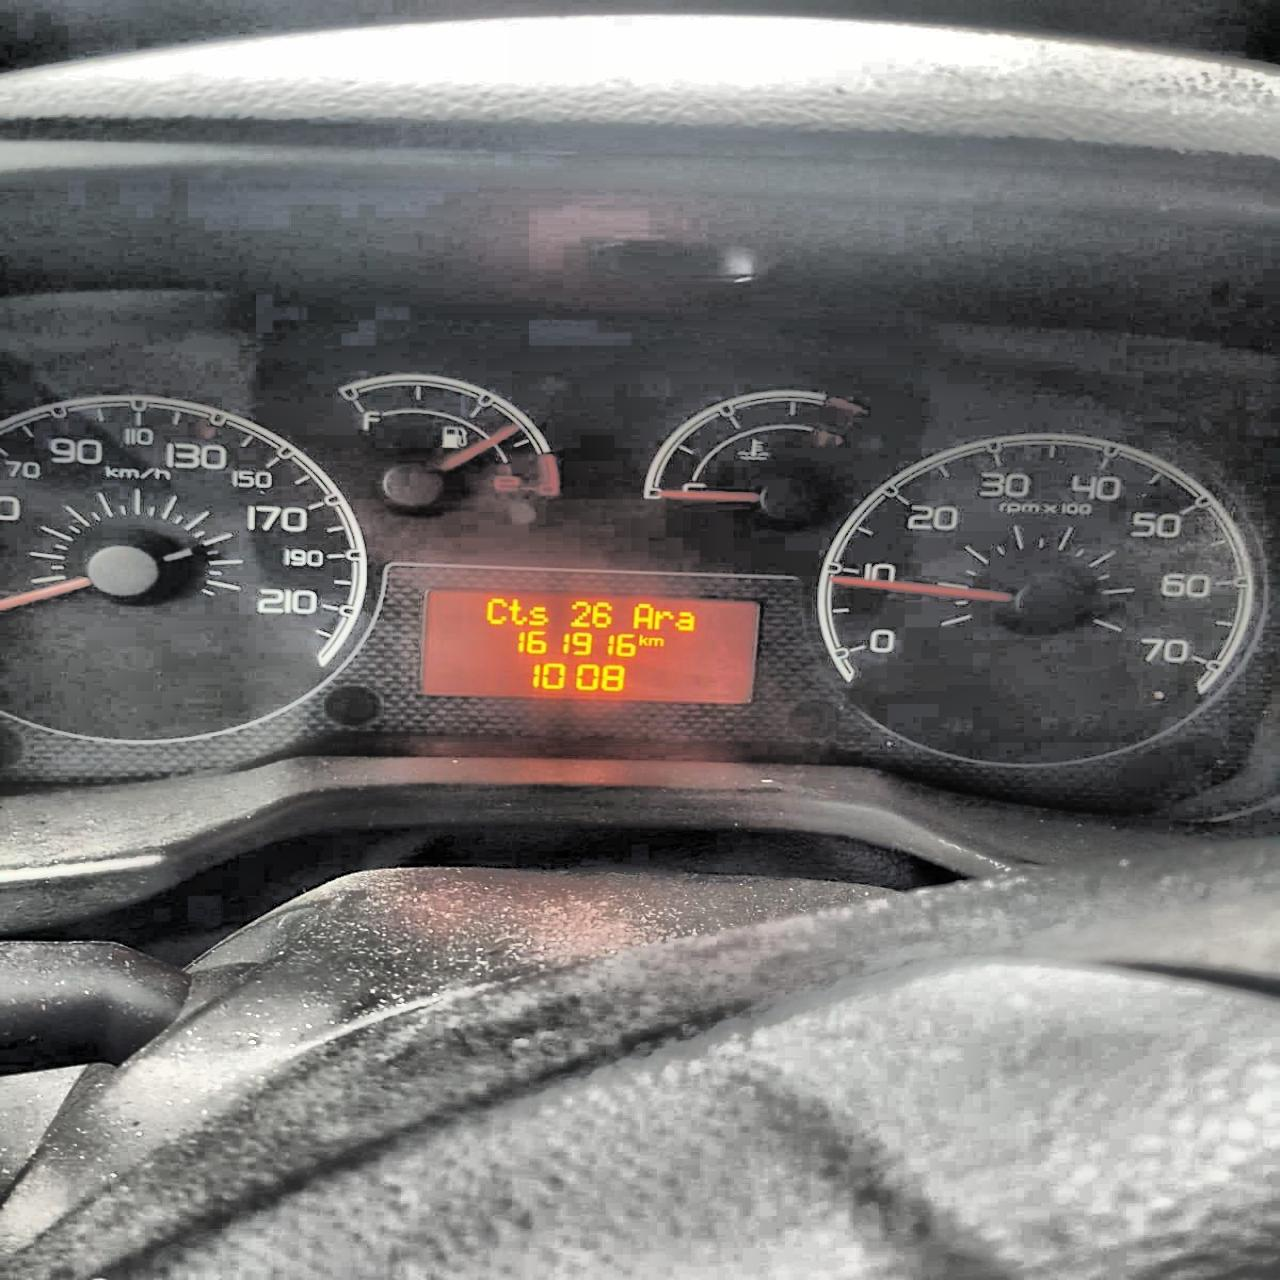0: (540, 661, 565, 689), (573, 663, 598, 690)
1: (531, 661, 539, 689), (516, 628, 525, 653), (563, 632, 570, 654), (606, 633, 613, 654)
2: (571, 599, 590, 627)
6: (591, 599, 611, 628), (526, 628, 546, 654), (615, 633, 635, 658)
8: (600, 663, 622, 690)
9: (572, 631, 592, 655)
X: (632, 602, 653, 629), (508, 598, 527, 626), (485, 598, 505, 625), (526, 602, 547, 626), (674, 611, 695, 632), (653, 608, 673, 629), (647, 635, 662, 646), (636, 633, 647, 646)
odometer: (418, 586, 763, 706)
